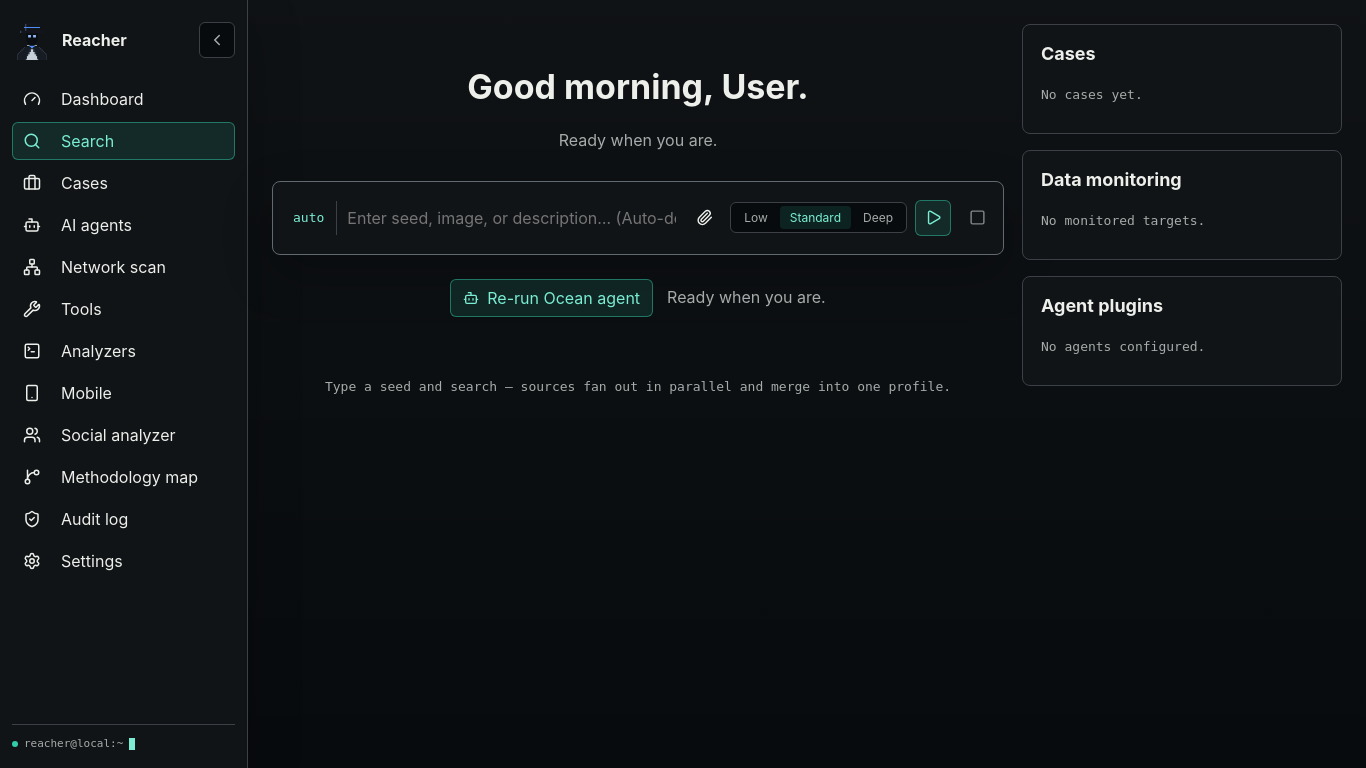
Test: search board ignores agent events from other agents so an unrelated run cannot overwrite the panel
The image size is (1366, 768).
Type "example.com" into the field labelled "seed" at (512, 218), box [345, 197, 678, 239]
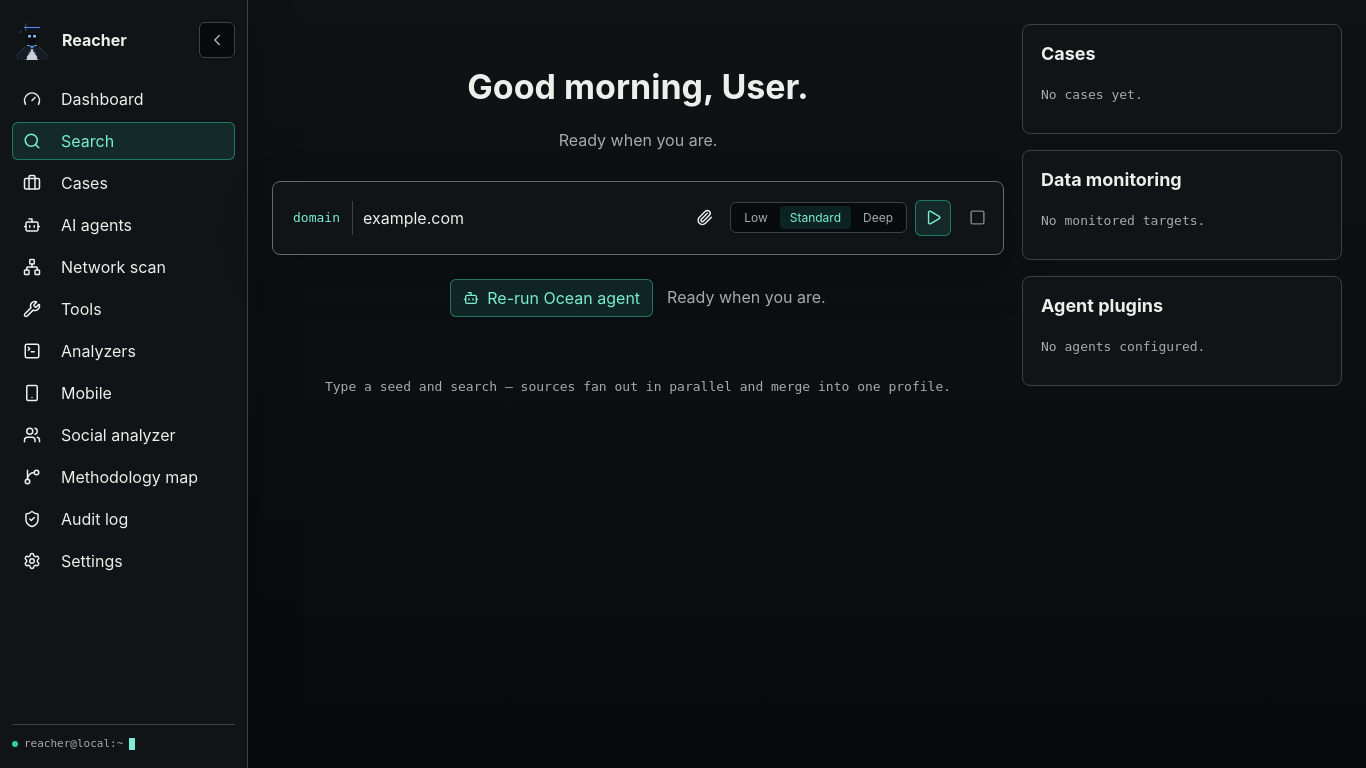
Click the button named "Search" at (933, 218), box [915, 200, 951, 236]
(page scrolled)
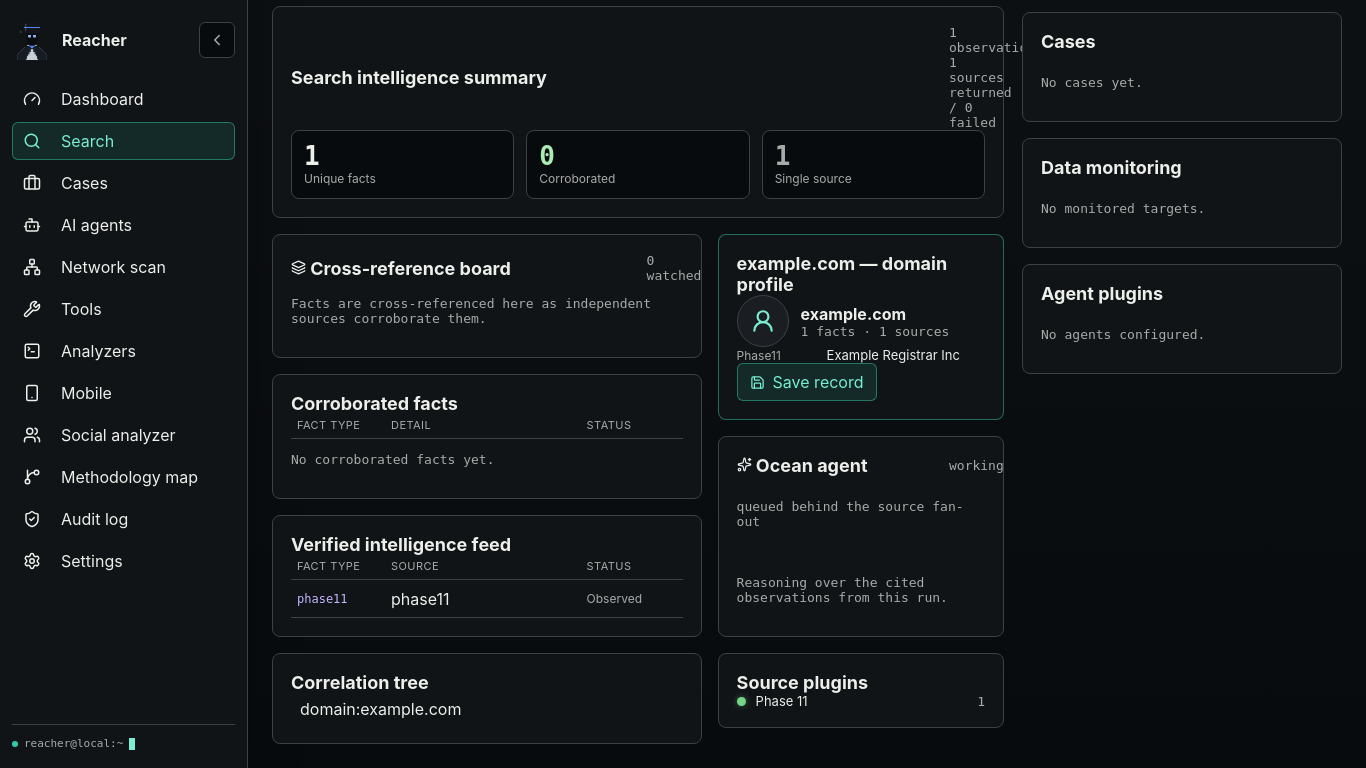
expect the heading "Ocean agent" is shown: met, box [737, 455, 868, 476]
